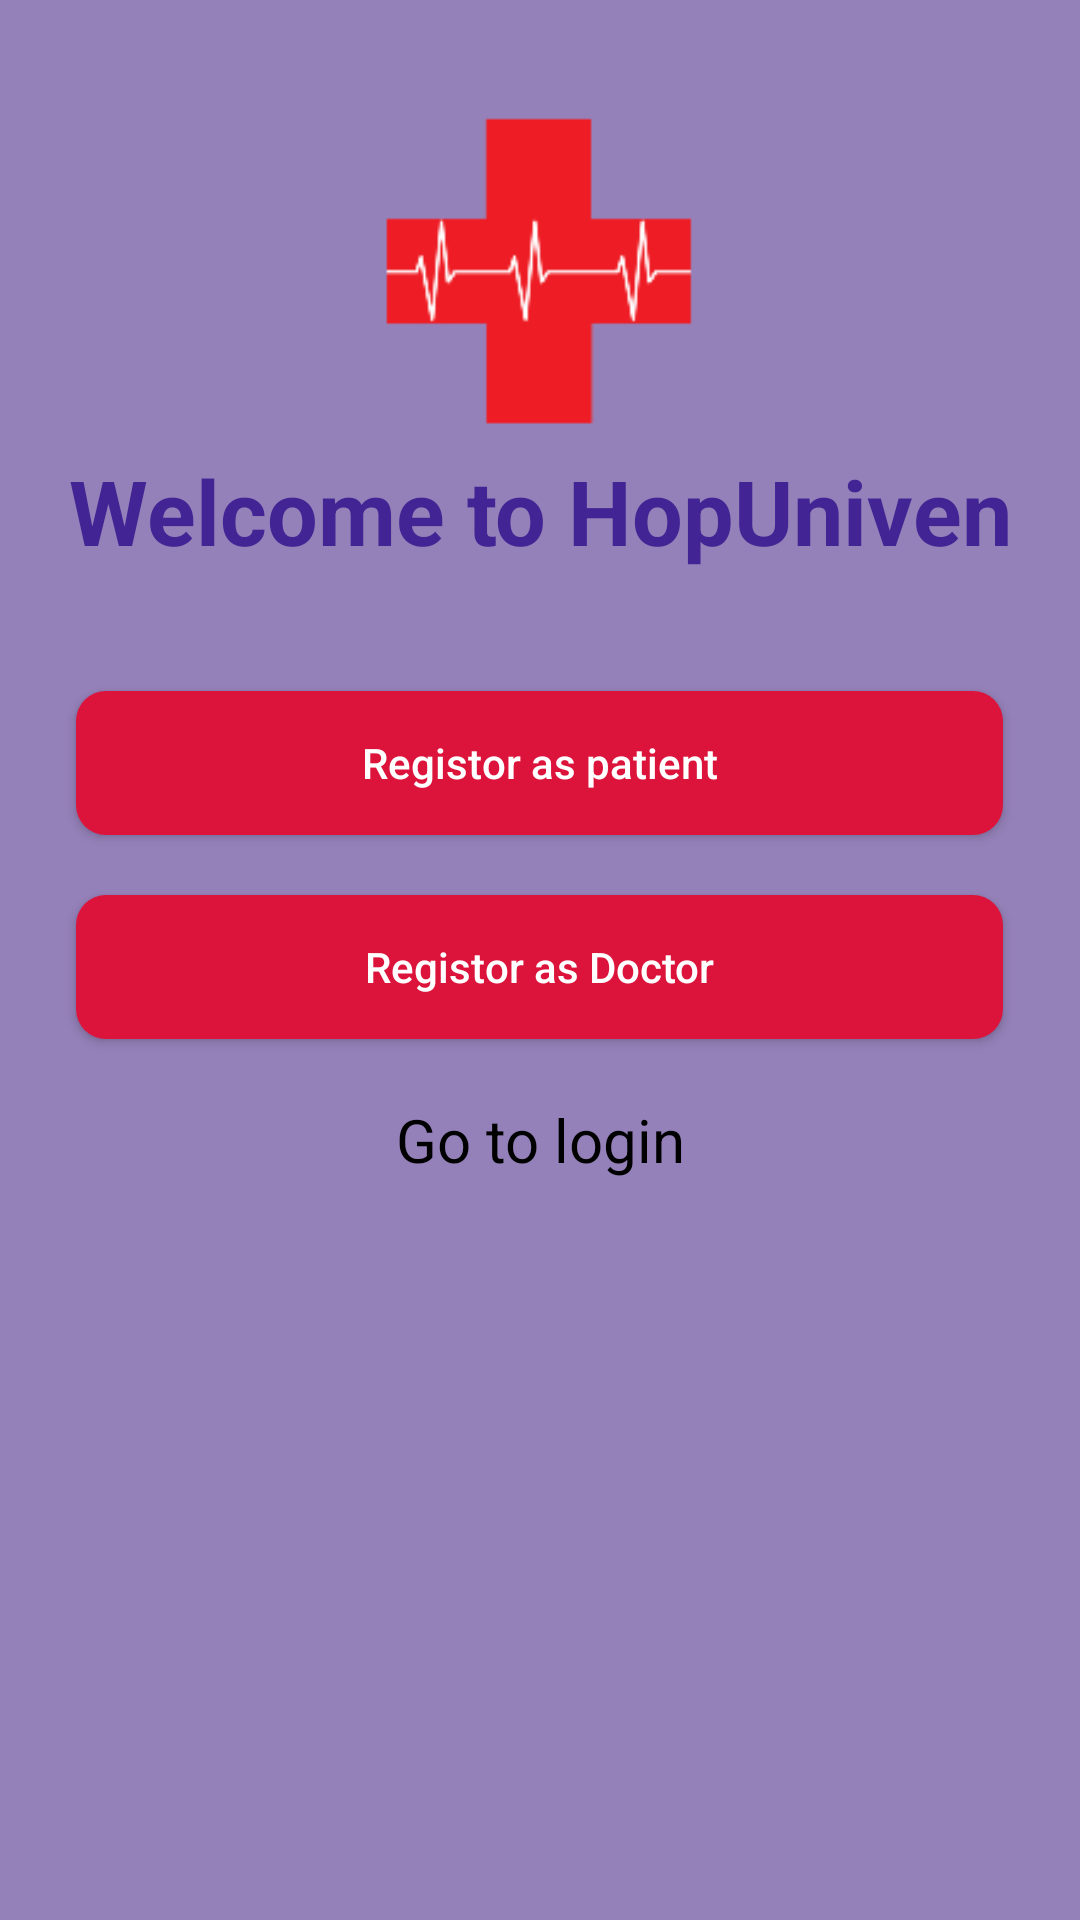

Icons on this 1080 x 1920 Android screen, each with its box as bbox=[x1, y1, x2, y2]:
plus: bbox=[386, 118, 692, 424]
